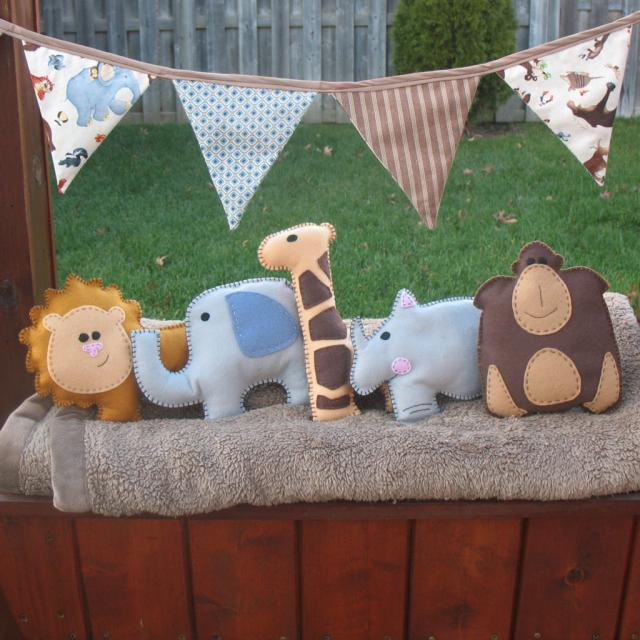elephant: (137, 279, 307, 420)
